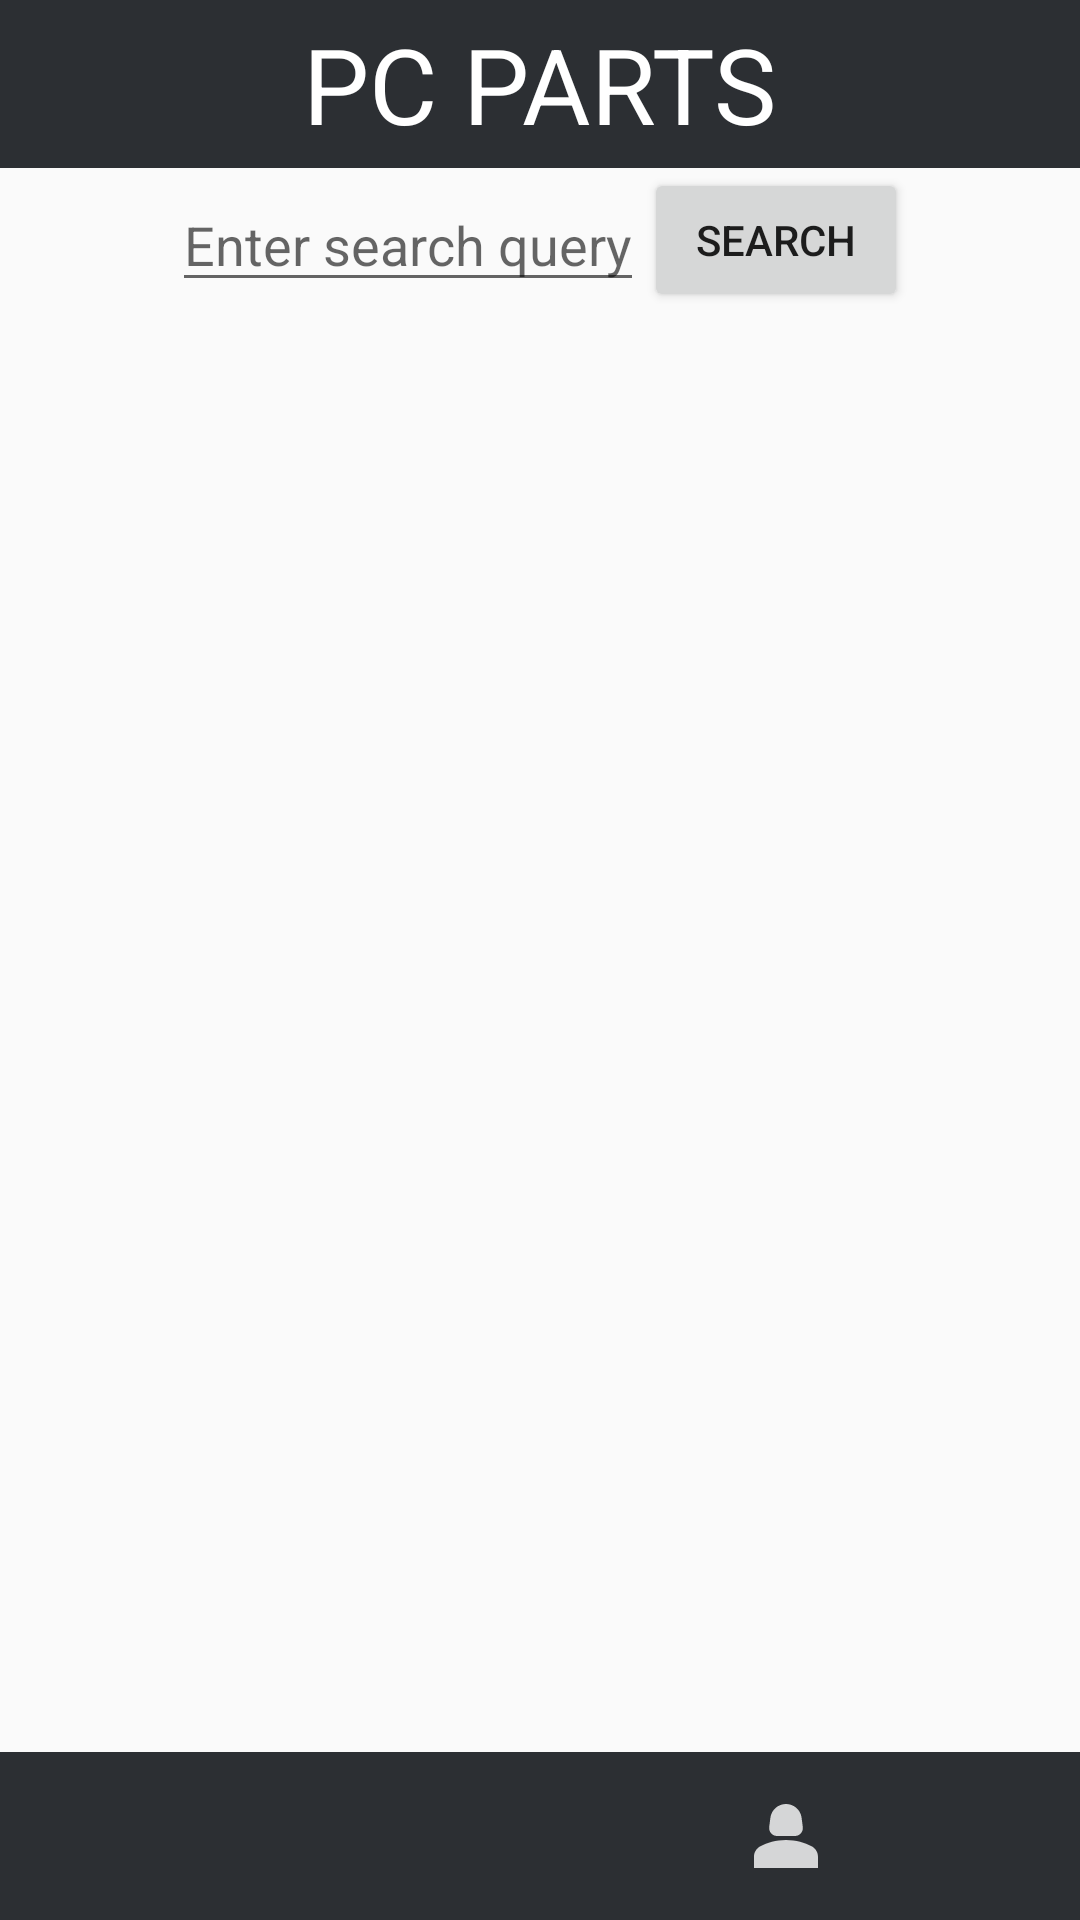

Icon bounding boxes for this 1080 x 1920 phone screenshot, format (x1, y1, x2, y2):
user: (754, 1804, 818, 1868)
